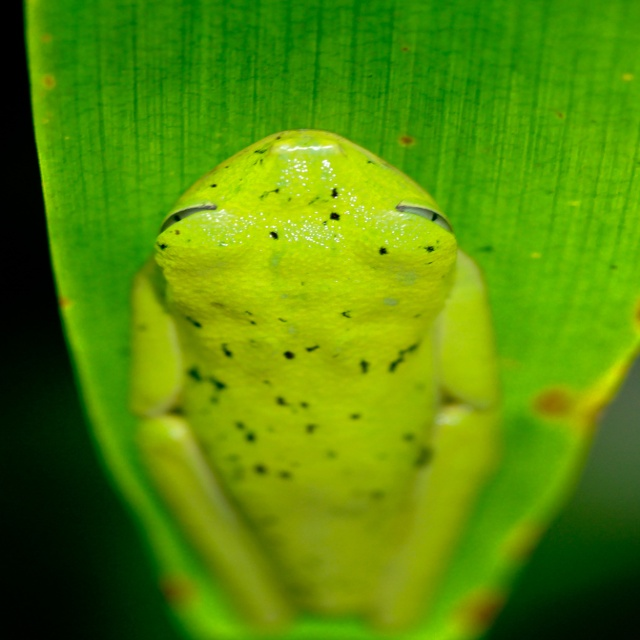Frog: (136, 126, 498, 634)
